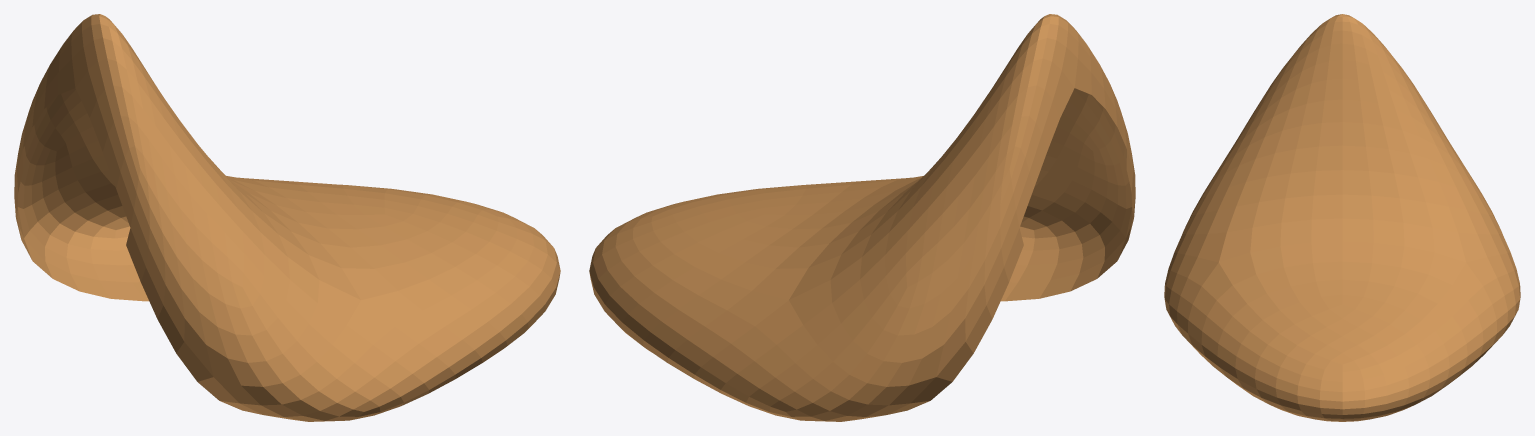
The model's file is SandPatch_Corner.fbx.
3 views of the same model, side by side, from view 1: azimuth 30°, elevation 25°; view 2: azimuth 150°, elevation 25°; view 3: azimuth 270°, elevation 25° (orthographic). The views are drawn at different scales.
Visible parts, largest first — view 1: SandPatch_Corner; view 2: SandPatch_Corner; view 3: SandPatch_Corner.
Boxes of the visible parts, left/top/right/bottom form: SandPatch_Corner: left=14, top=14, right=560, bottom=421; SandPatch_Corner: left=589, top=14, right=1135, bottom=421; SandPatch_Corner: left=1164, top=14, right=1520, bottom=421.
Size of the model in its own units: 10.01 by 9.17 by 7.68.
